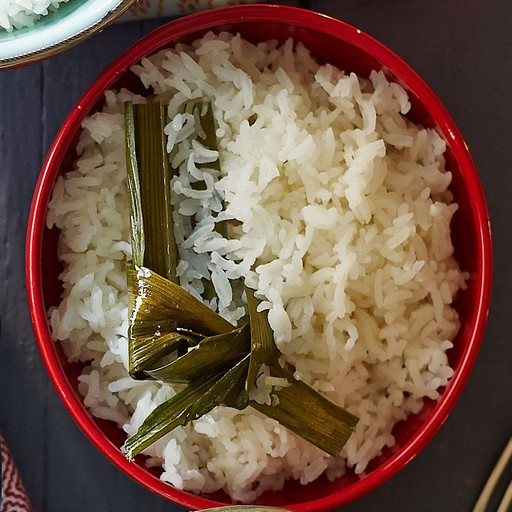rice: (244, 119, 392, 296)
